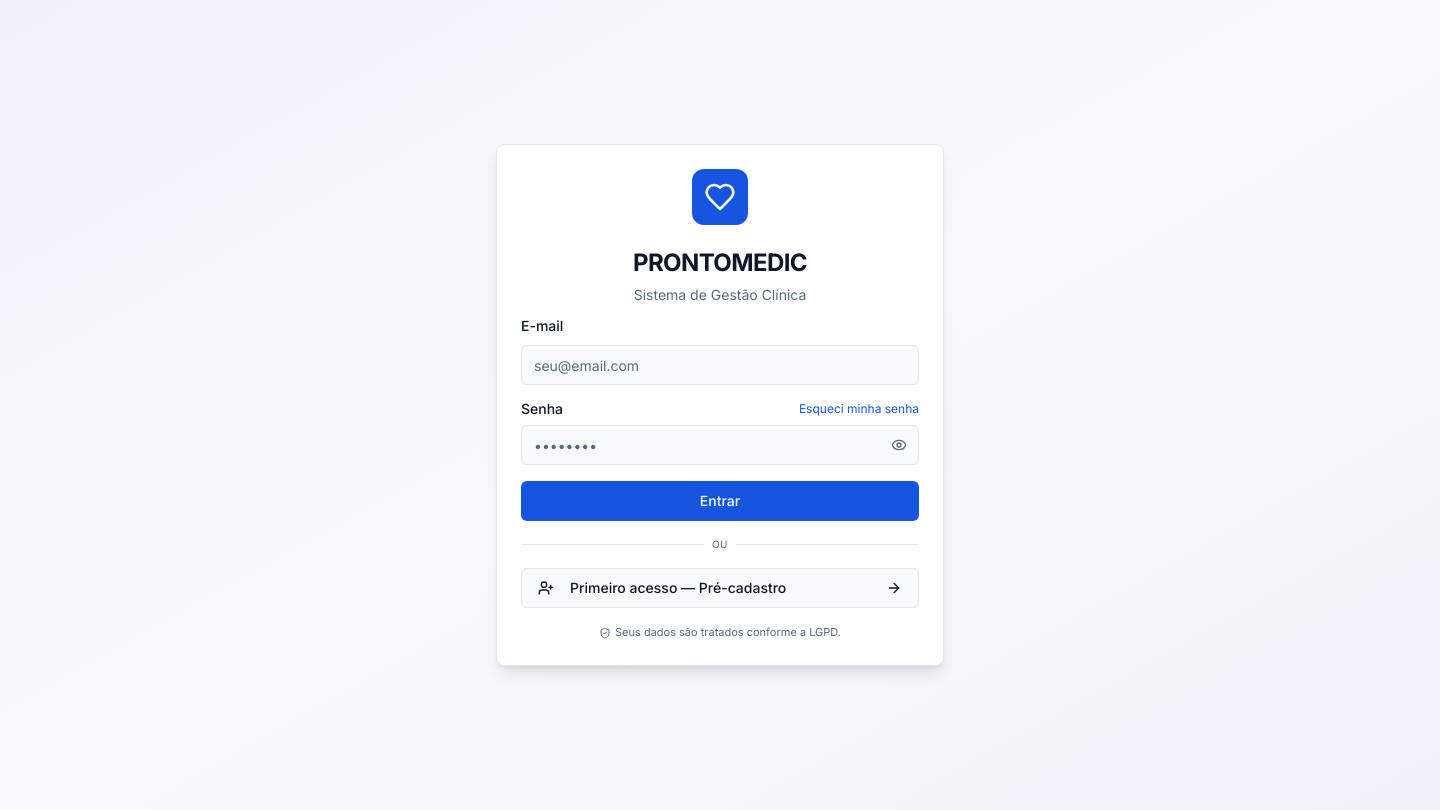
Test: LoginPage MFA › direciona usuário sem fator para o cadastro MFA
The width and height of the screenshot is (1440, 810).
Type "user@example.test" into the field labelled "E-mail".
click(720, 365); type("user@example.test")  # box left=521, top=345, right=919, bottom=385
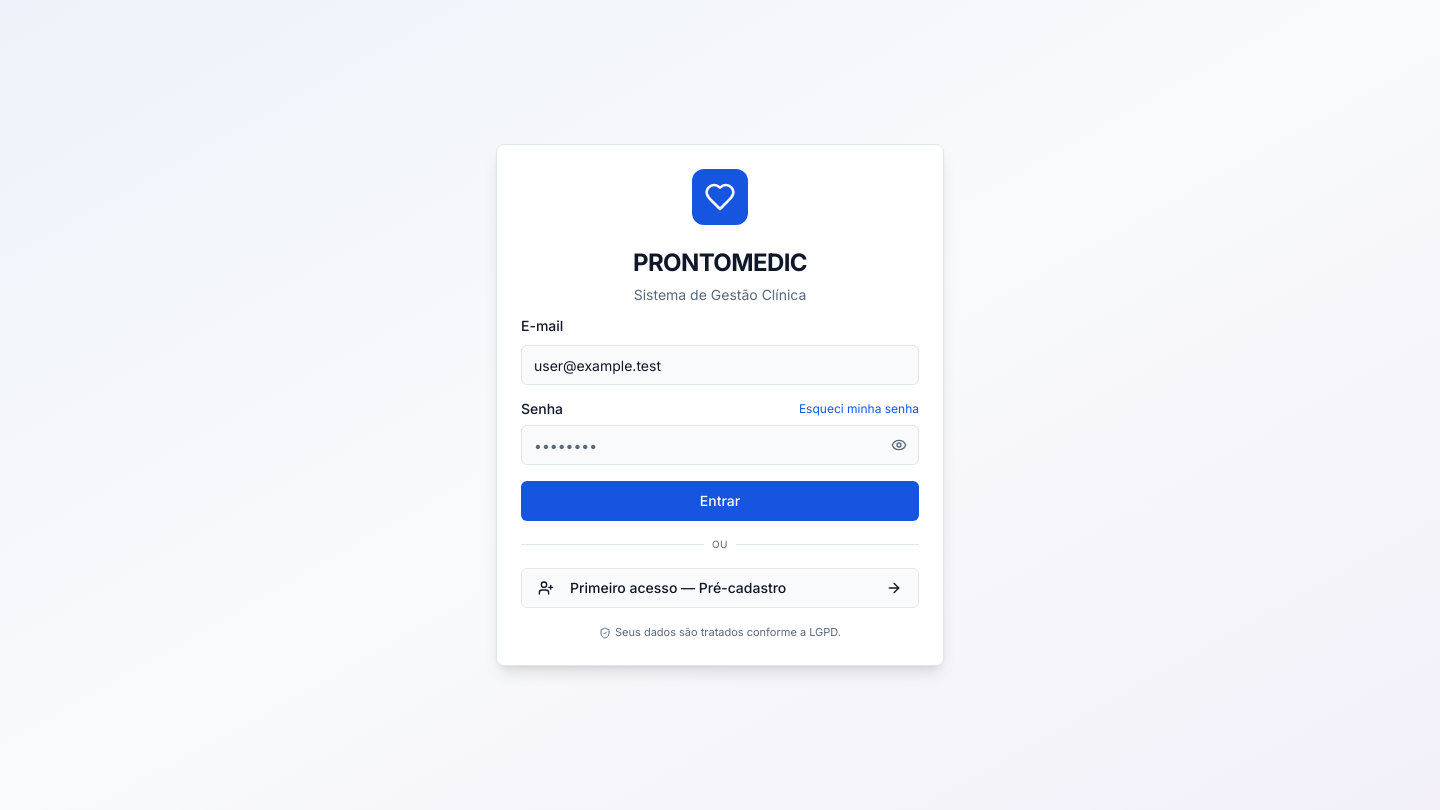
Type "secret" into the password field labelled "Senha".
click(720, 445); type("secret")  # box left=521, top=425, right=919, bottom=465
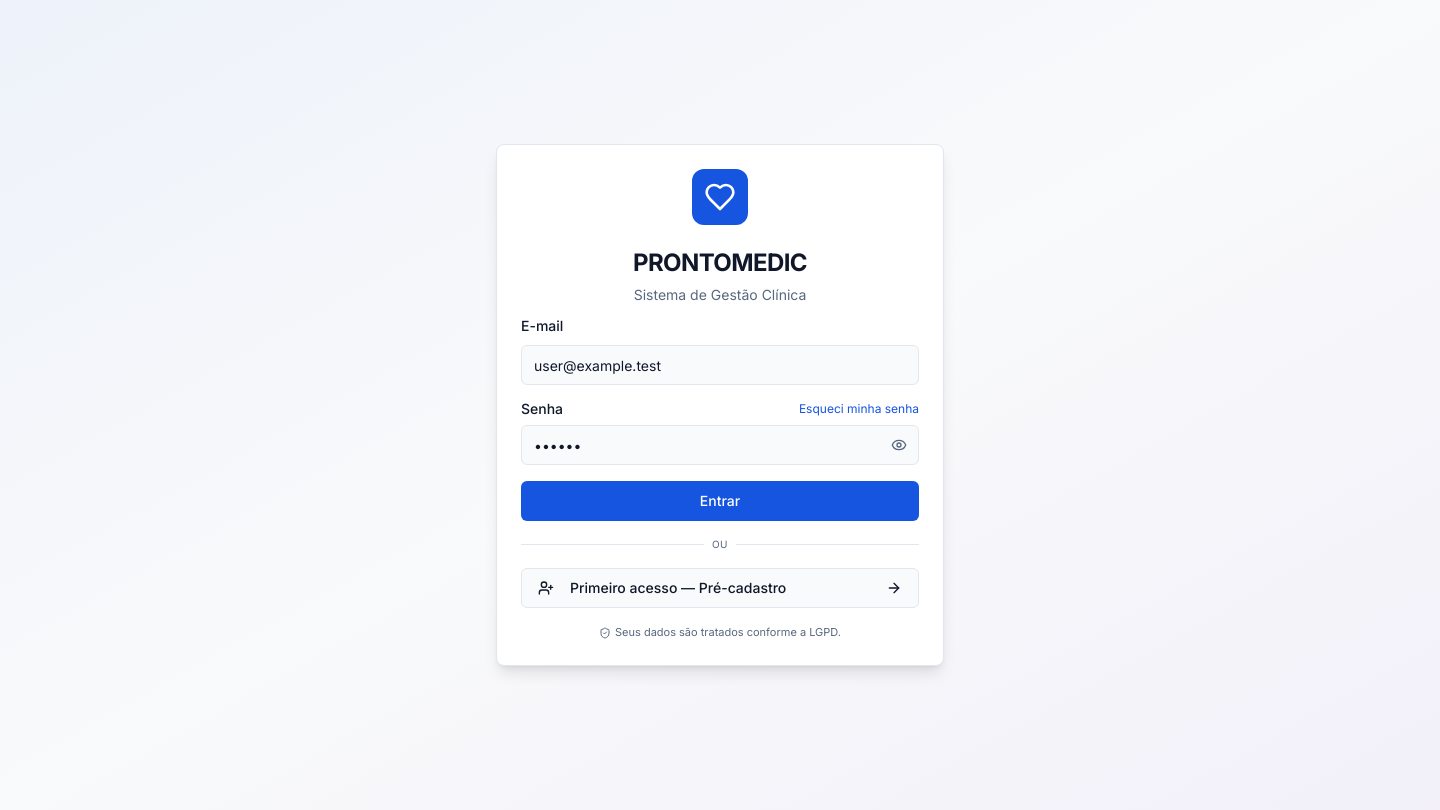
Submit the form named "Formulário de login", box left=521, top=313, right=919, bottom=641
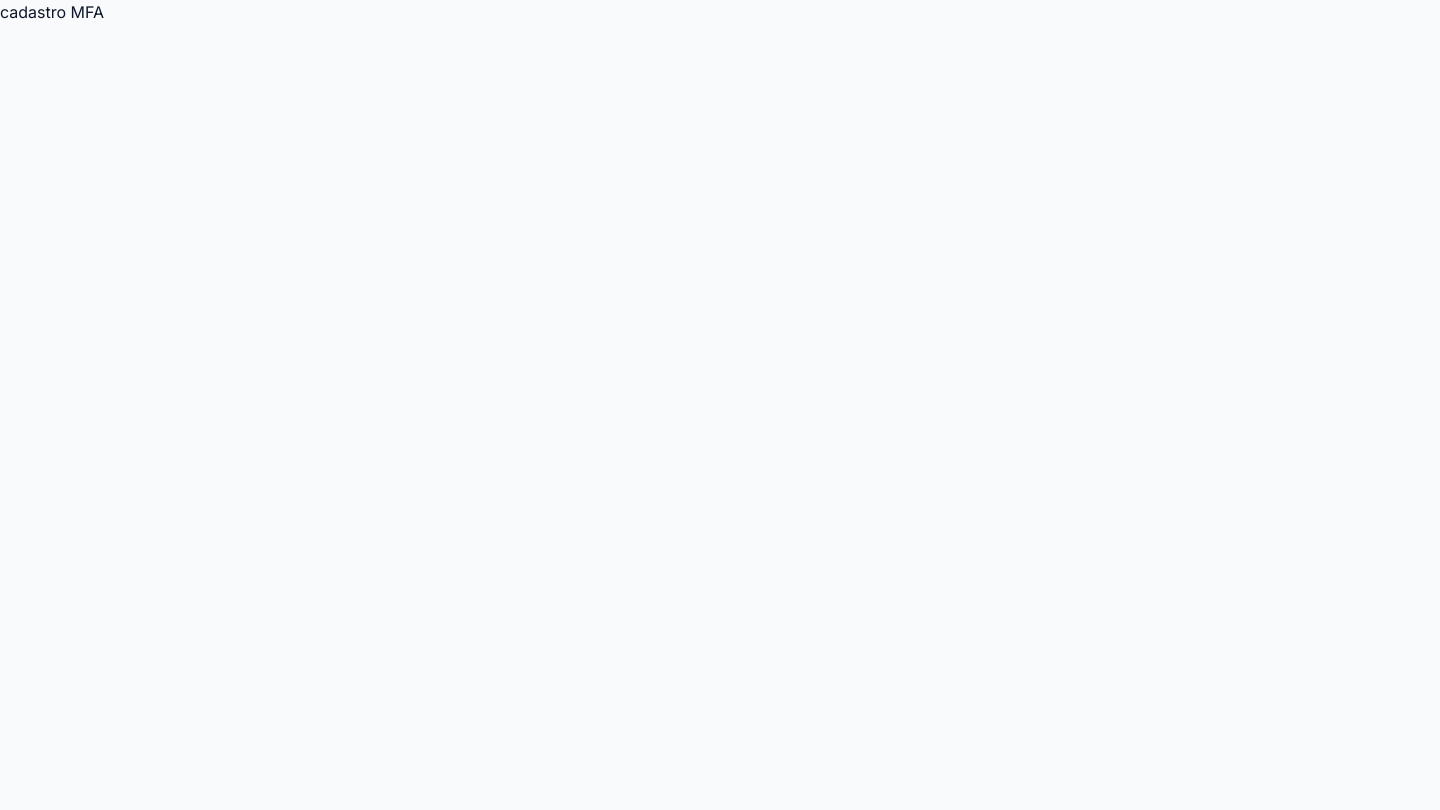
Result: the text "cadastro MFA" is shown at left=0, top=2, right=104, bottom=22
